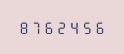eight: (17, 20, 29, 34)
five: (82, 20, 94, 34)
four: (69, 20, 81, 34)
seven: (30, 20, 42, 34)
six: (43, 20, 55, 34), (95, 20, 107, 34)
two: (56, 20, 68, 34)
